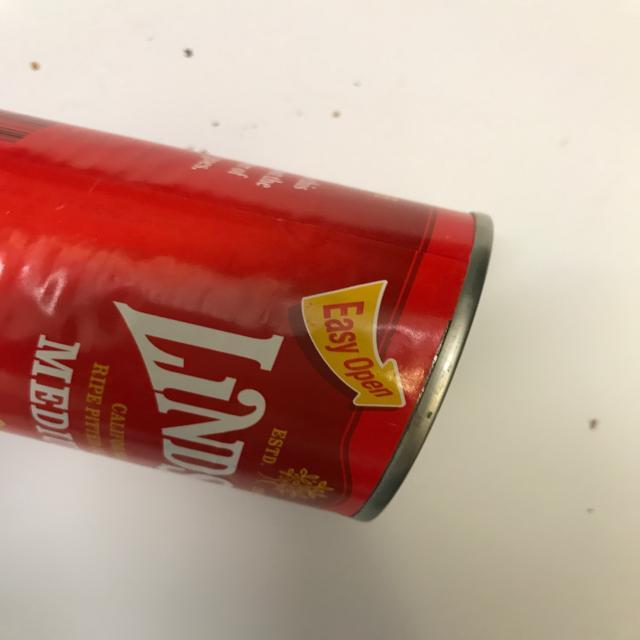metal: (1, 108, 494, 523)
